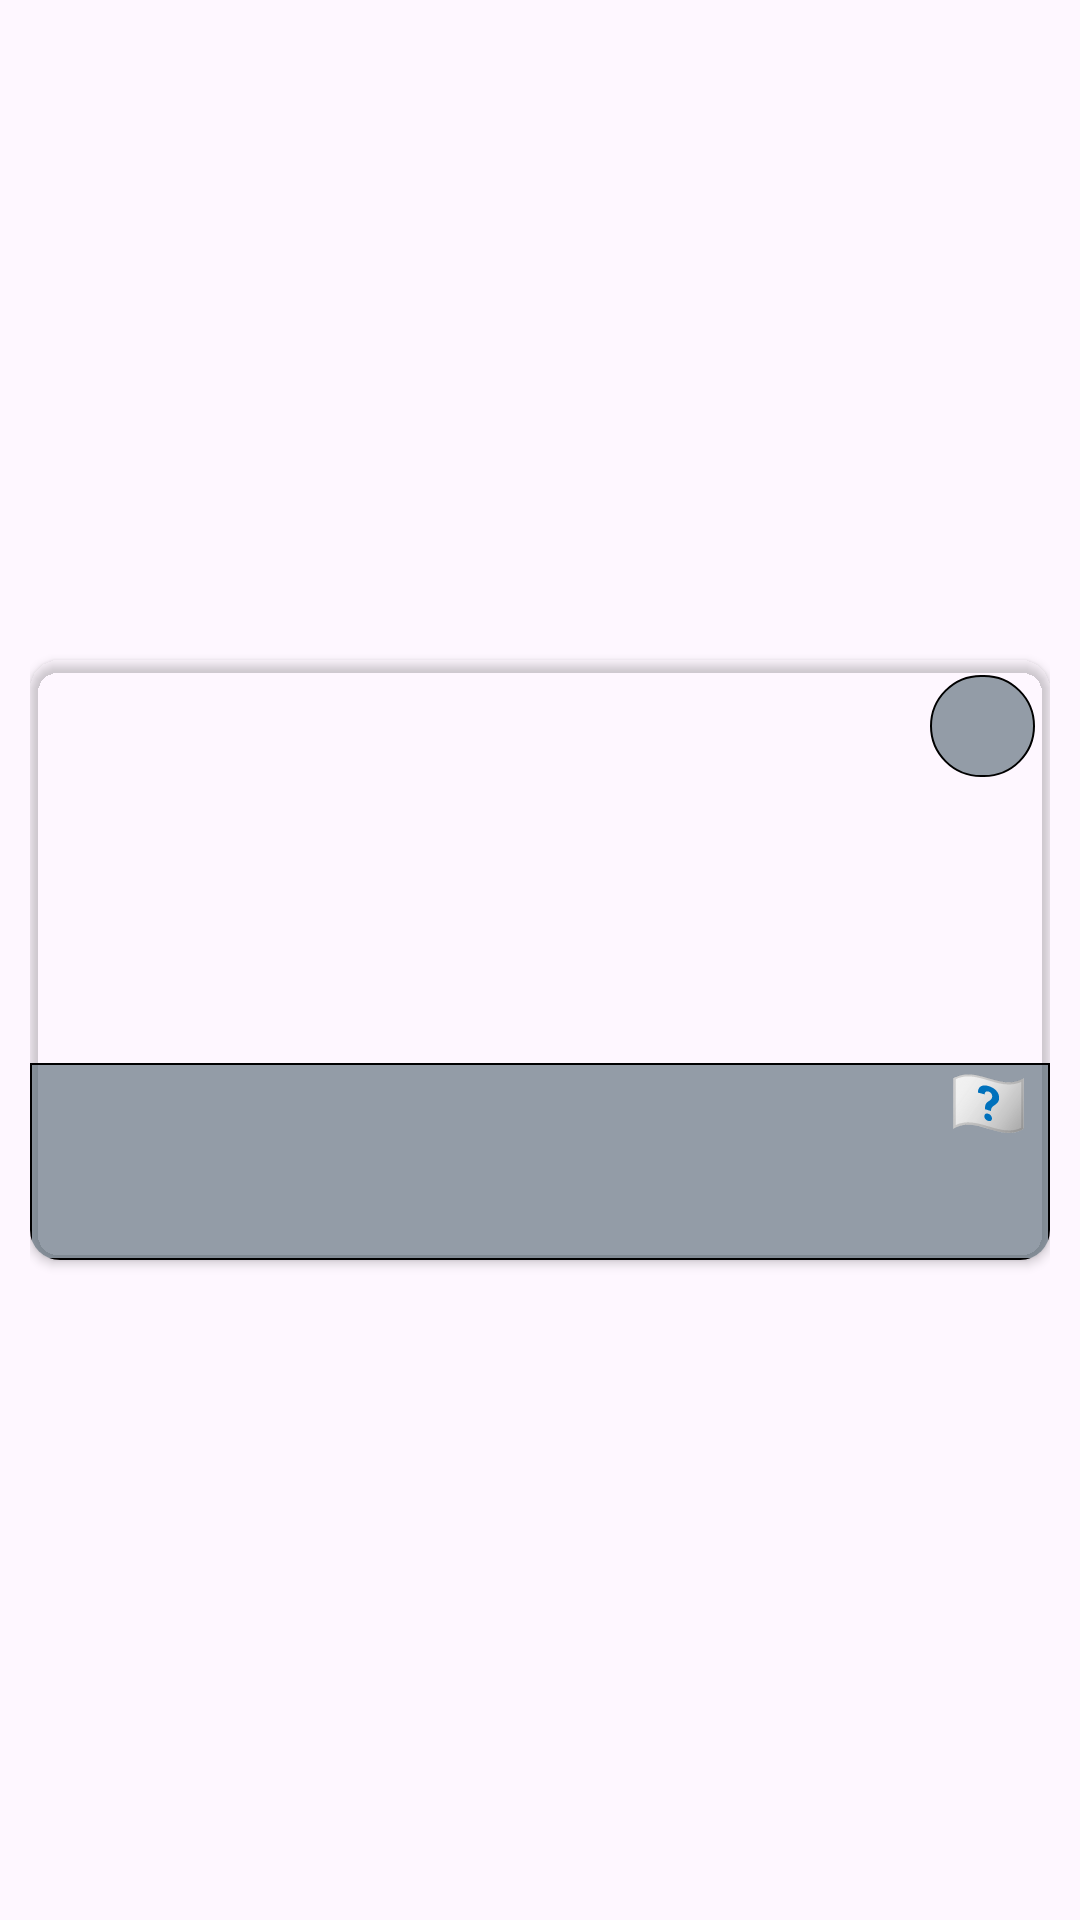

Point at icon controls on the screen. Image size 1080*1920, points as (x,y).
unknown flag: (988,1102)
